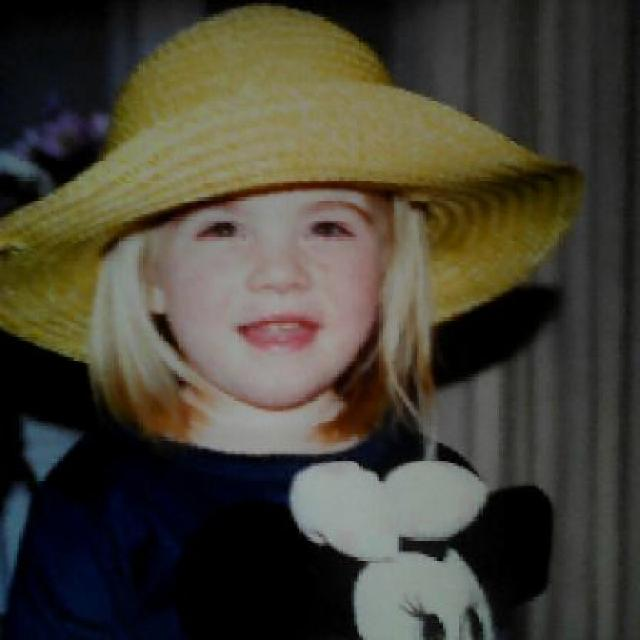child: (3, 2, 586, 638)
